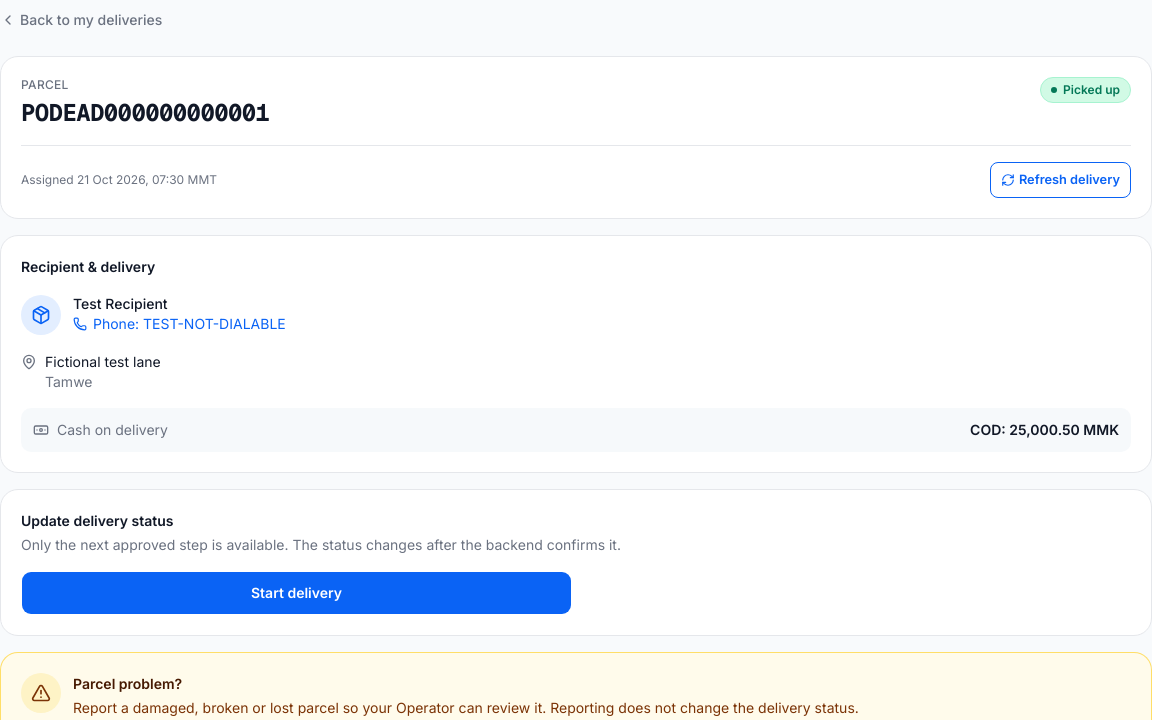
it: executes full Rider delivery sequence with confirmations and refreshed history
Click the button "Start delivery" at (296, 593), box 21,571 -> 572,615
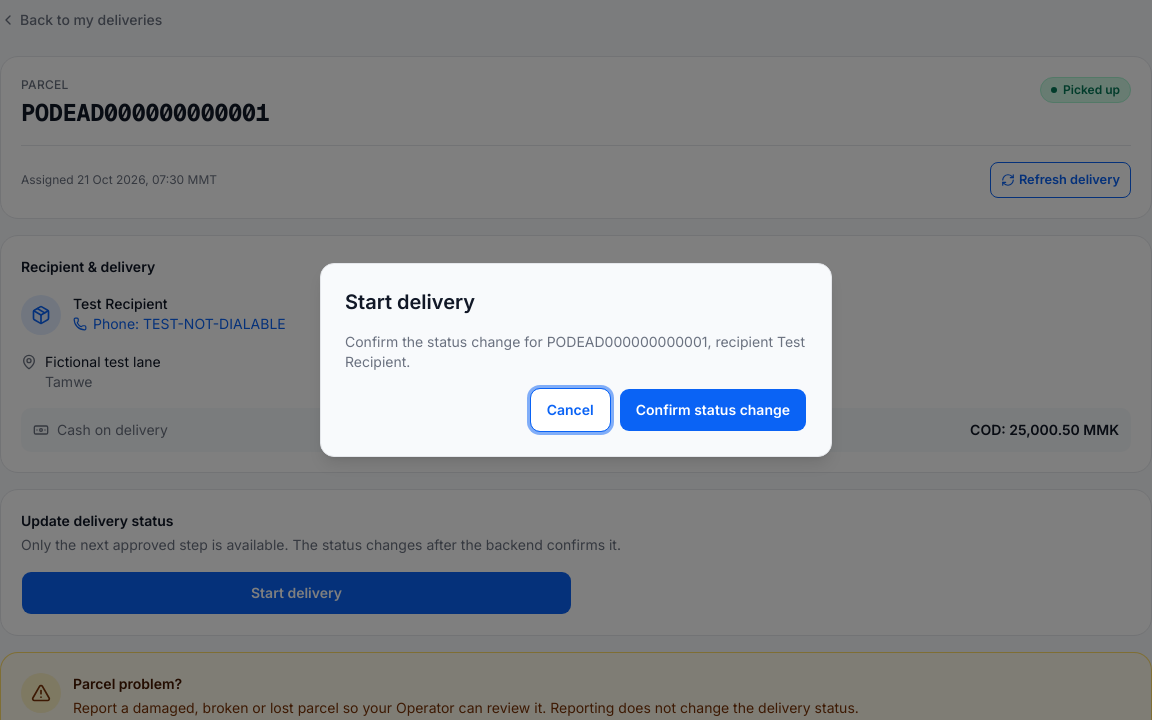
Click the button "Confirm status change" at (713, 410), box 619,388 -> 807,432
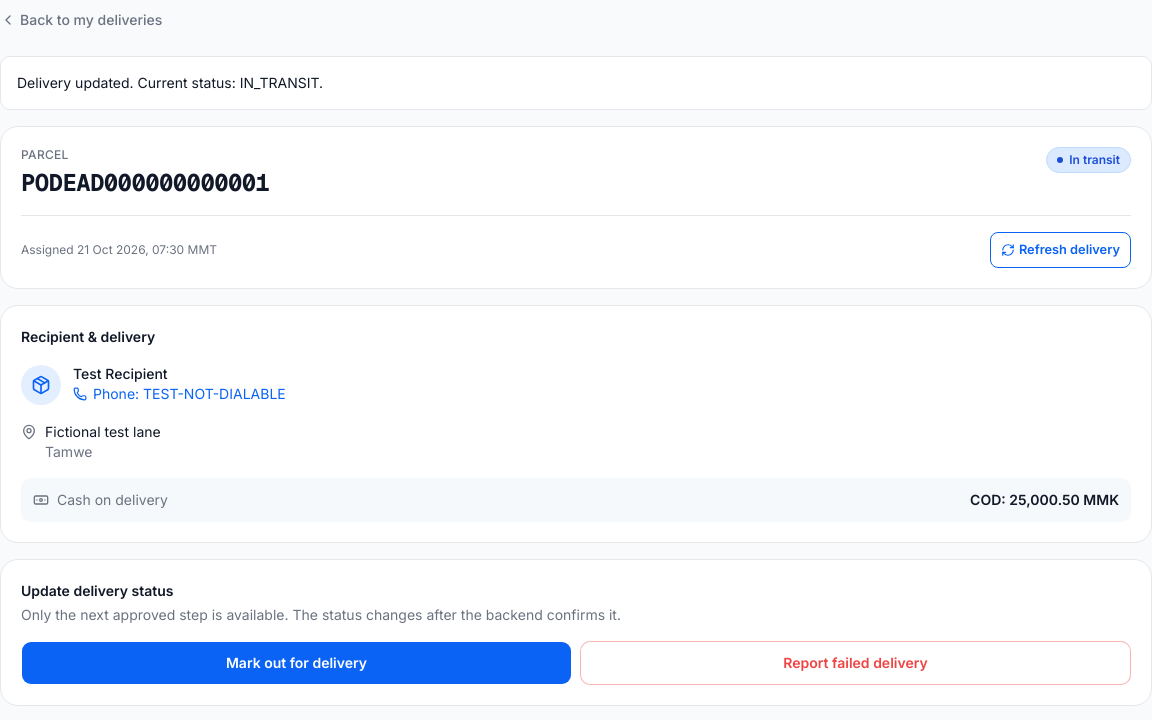
Click the button "Mark out for delivery" at (296, 663), box 21,641 -> 572,685
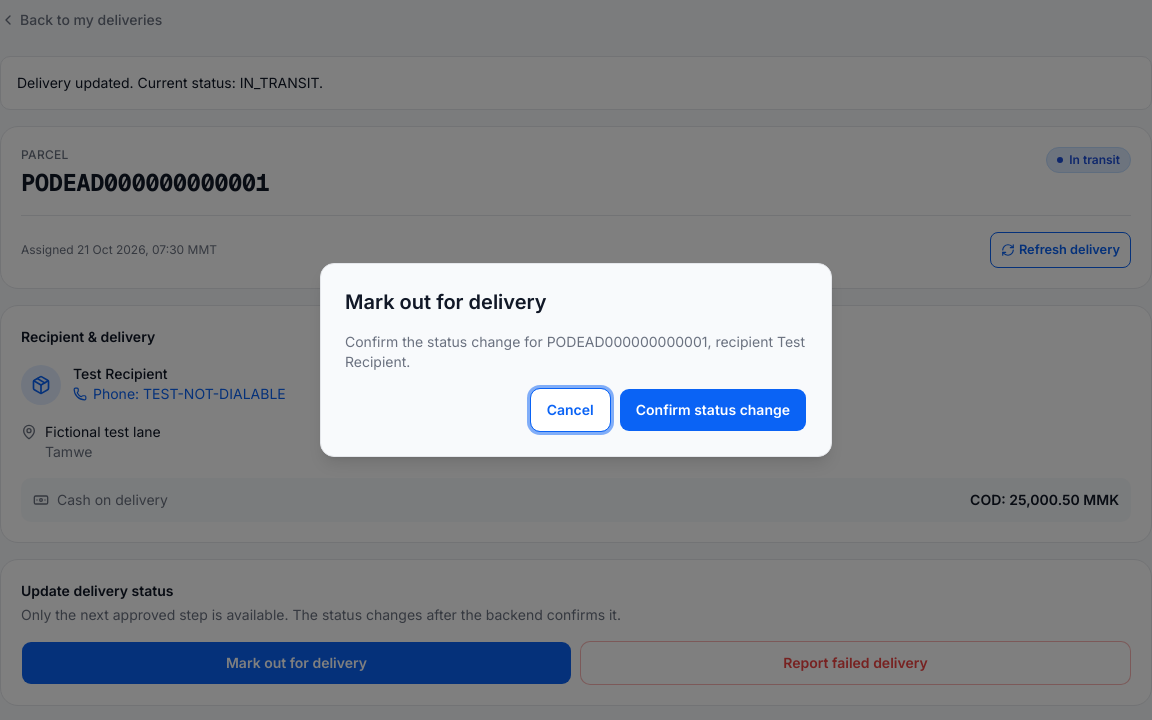
Click the button "Confirm status change" at (713, 410), box 619,388 -> 807,432
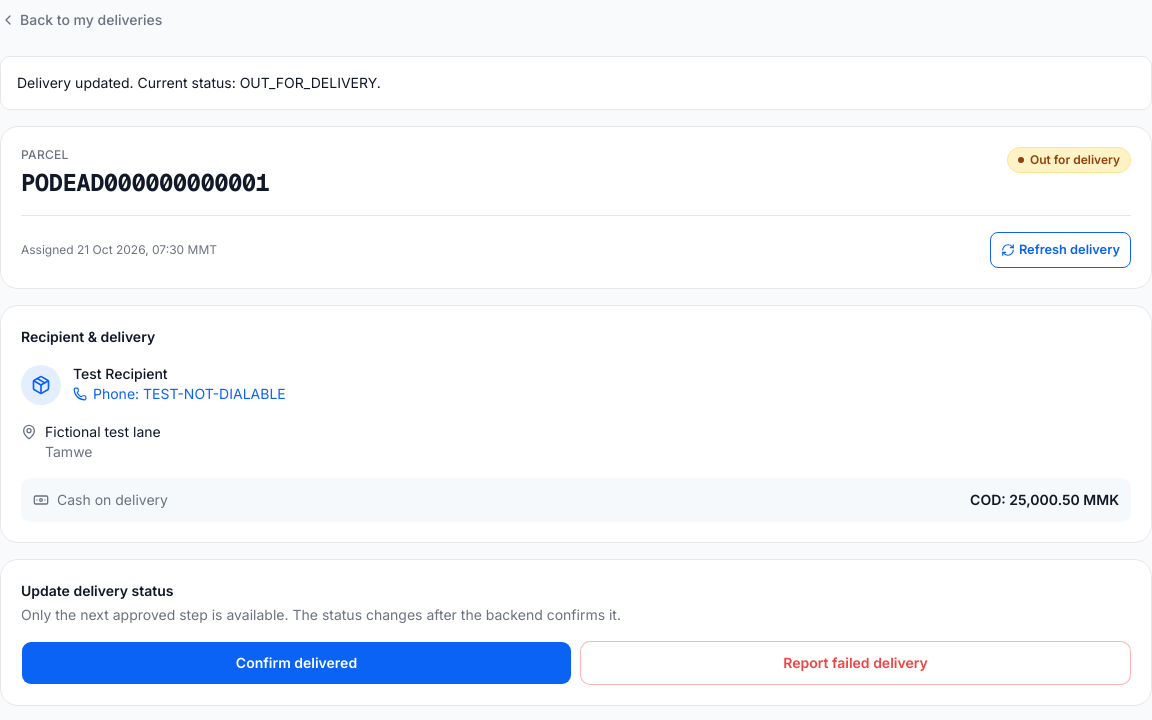
Click the button "Confirm delivered" at (296, 663), box 21,641 -> 572,685
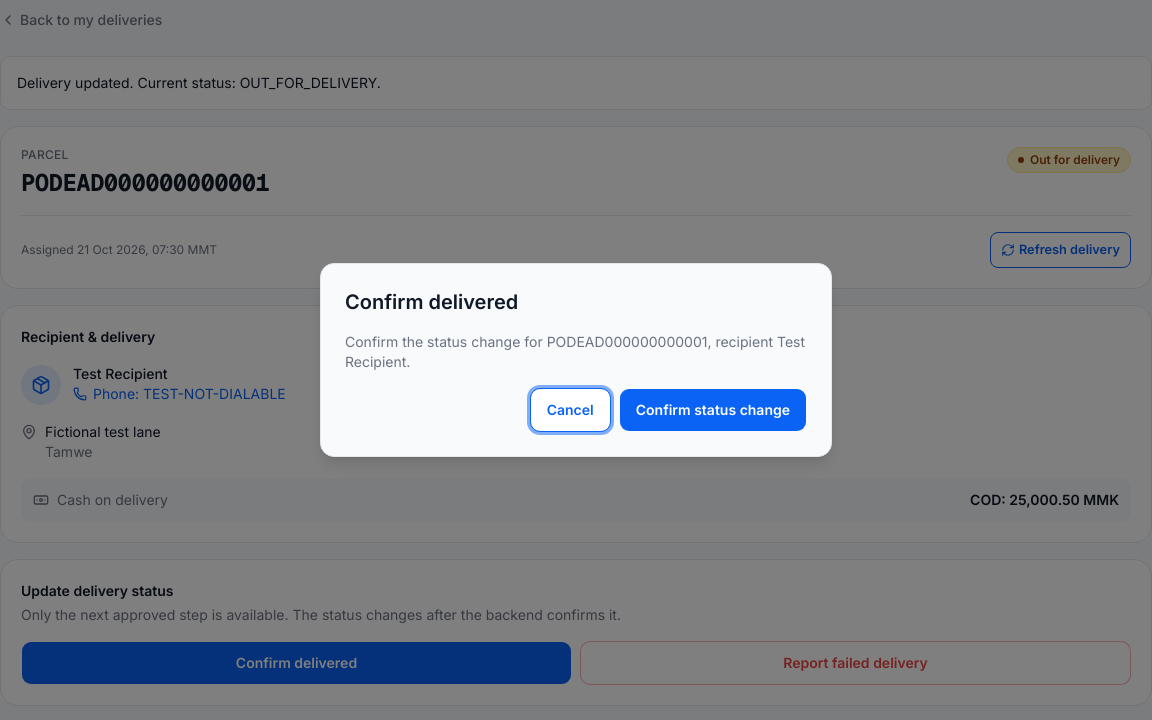
Click the button "Confirm status change" at (713, 410), box 619,388 -> 807,432
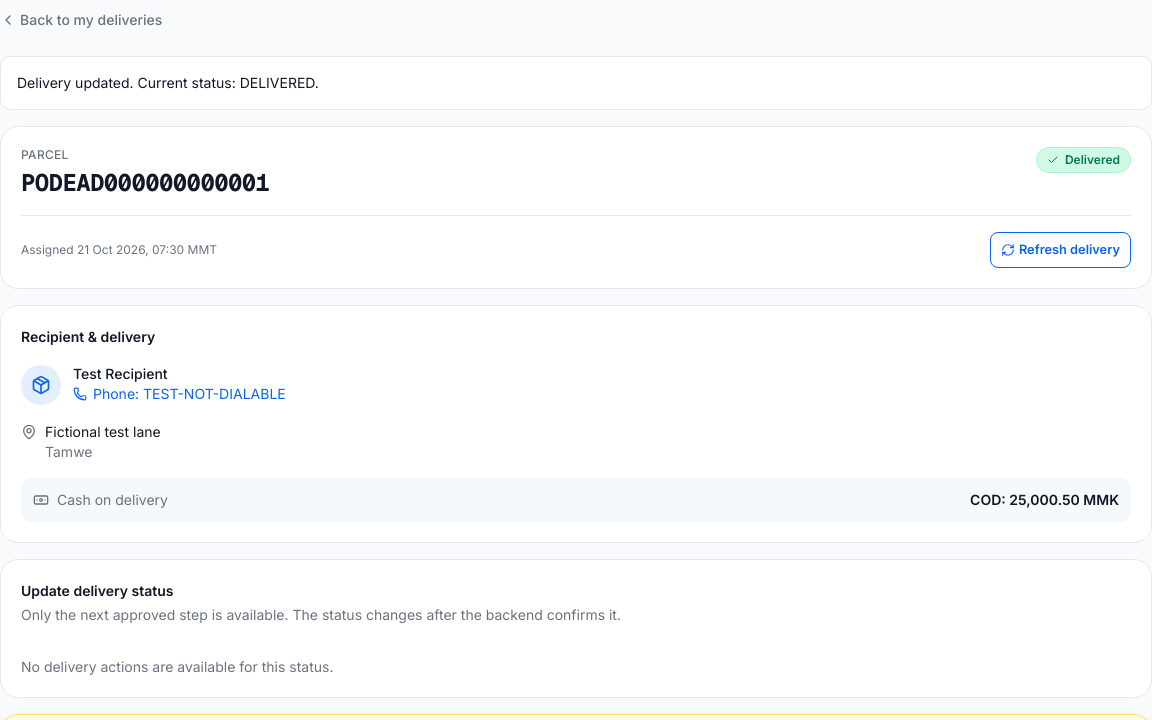
Expected: the text "No delivery actions are available for this status." is shown, 21,658 -> 333,675
